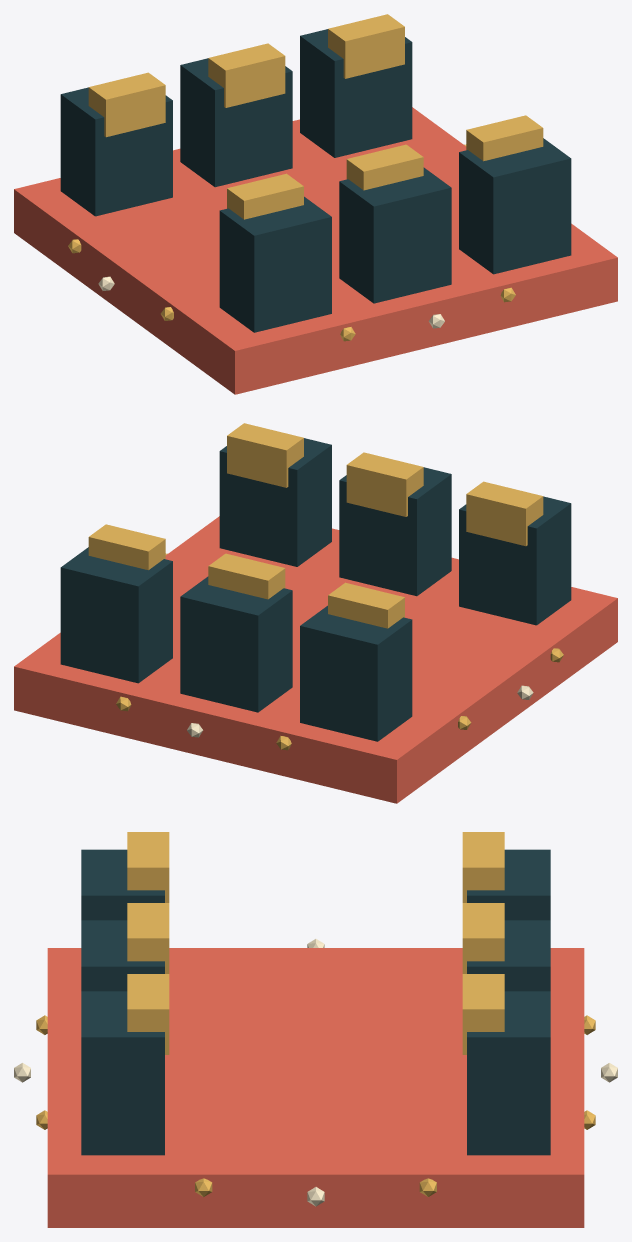
File: drop_carriage.glb
3 renders of one model, top to bottom at view 1: azimuth 30°, elevation 25°; view 2: azimuth 150°, elevation 25°; view 3: azimuth 270°, elevation 25°, orthographic. The views are drawn at different scales.
Parts seen in each view (by area): view 1: drop_carriage; view 2: drop_carriage; view 3: drop_carriage.
Boxes of the visible parts, box(x1,y1,x2,y2) form: drop_carriage: box(14, 14, 617, 394); drop_carriage: box(14, 423, 617, 803); drop_carriage: box(14, 832, 617, 1227).
Size of the model in its own units: 3.6 by 1.28 by 3.6.
